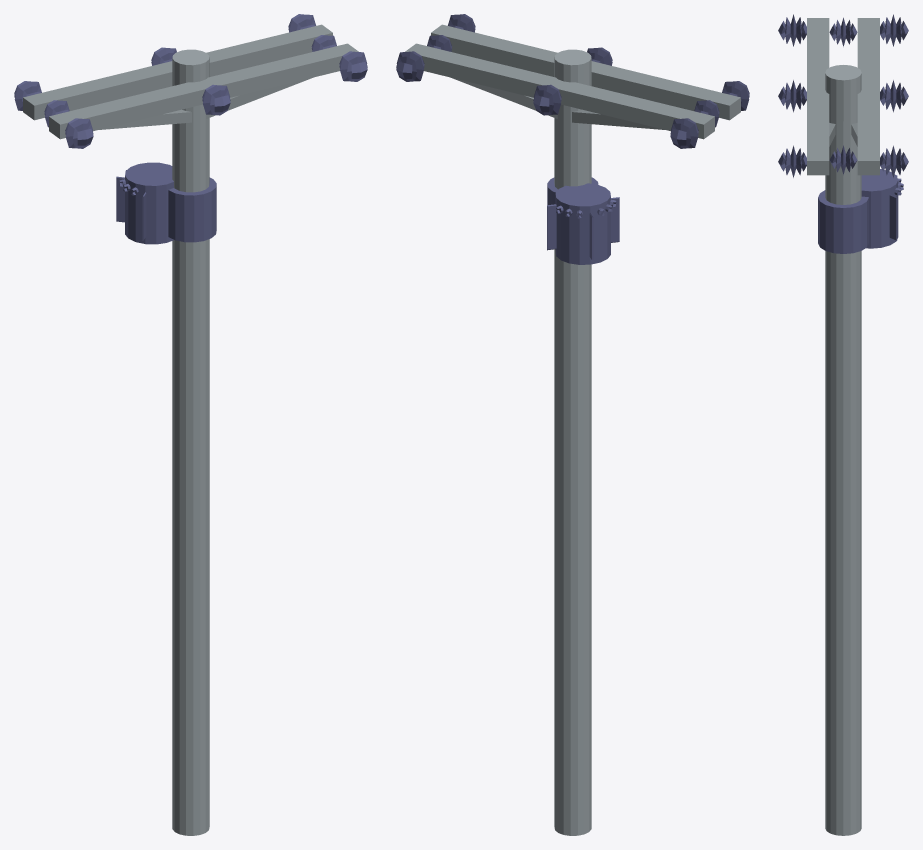
Rendered from ELECTRIC POLE.fbx.
3 views of the same model, side by side, from view 1: azimuth 30°, elevation 25°; view 2: azimuth 150°, elevation 25°; view 3: azimuth 270°, elevation 25° (orthographic).
Parts seen in each view (by area): view 1: electric pole; view 2: electric pole; view 3: electric pole.
Part boxes in pixels (left/top/right/bottom): electric pole: left=14, top=14, right=367, bottom=835; electric pole: left=396, top=14, right=749, bottom=835; electric pole: left=778, top=14, right=908, bottom=835.
Size of the model in its own units: 514 by 1254 by 197.
